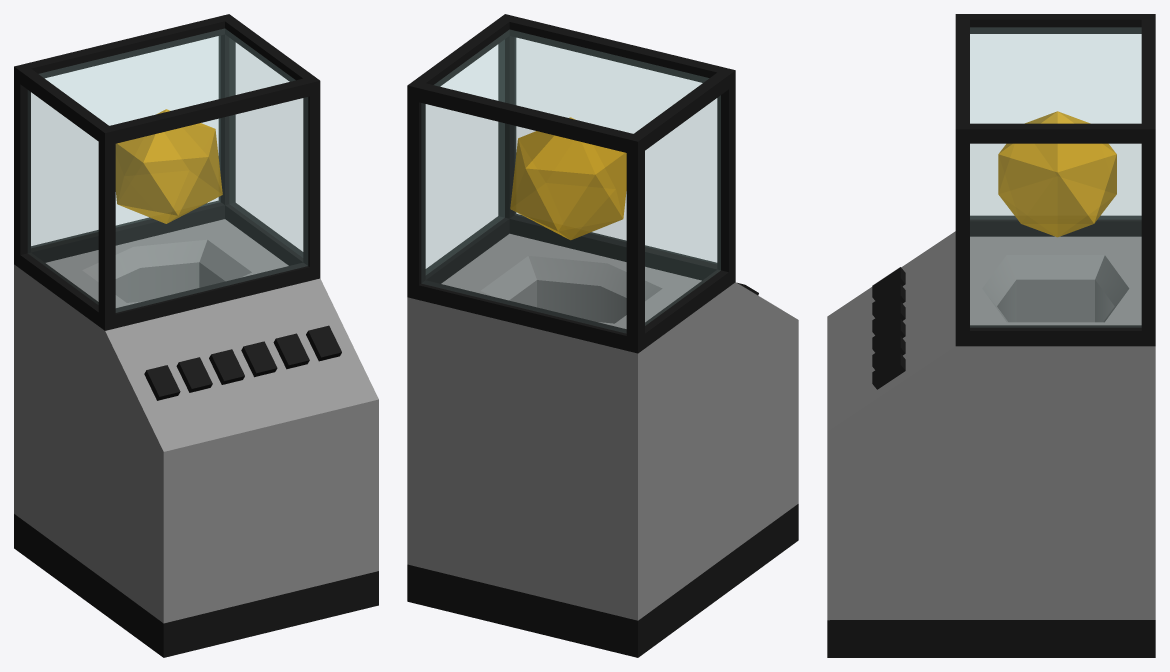
Rendered from obj_machine_dispenser.FBX.
3 renders of one model, left to right at view 1: azimuth 30°, elevation 25°; view 2: azimuth 150°, elevation 25°; view 3: azimuth 270°, elevation 25°, orthographic. The views are drawn at different scales.
Visible parts, largest first — view 1: obj_machine_dispenser; view 2: obj_machine_dispenser; view 3: obj_machine_dispenser.
Boxes of the visible parts, bbox=[...] form: obj_machine_dispenser: bbox=[14, 14, 378, 657]; obj_machine_dispenser: bbox=[407, 14, 798, 657]; obj_machine_dispenser: bbox=[827, 14, 1155, 657].
Size of the model in its own units: 6.4 by 13.69 by 7.71.
